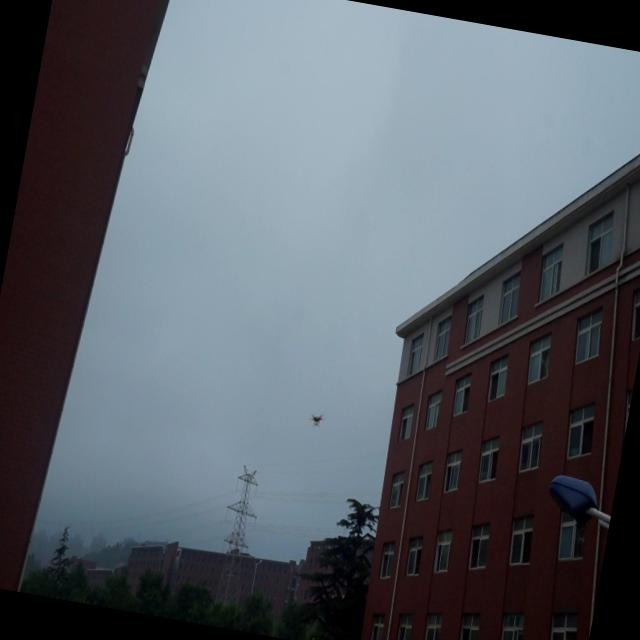drone: (308, 408, 326, 429)
